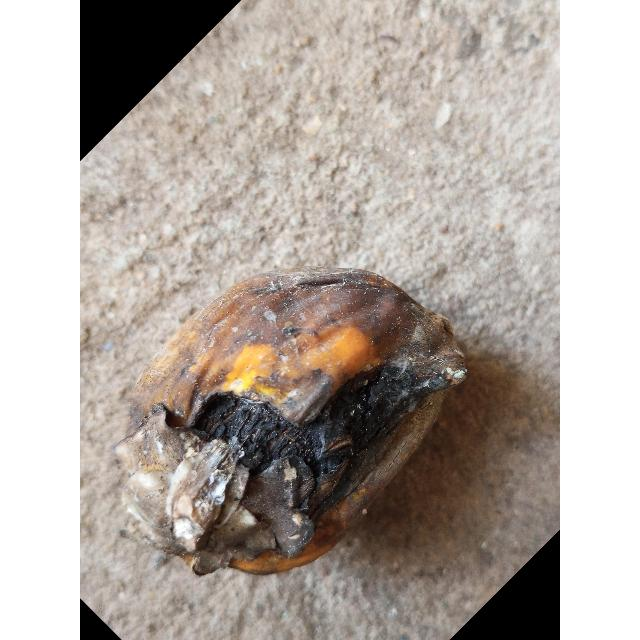damaged: (129, 272, 468, 581)
